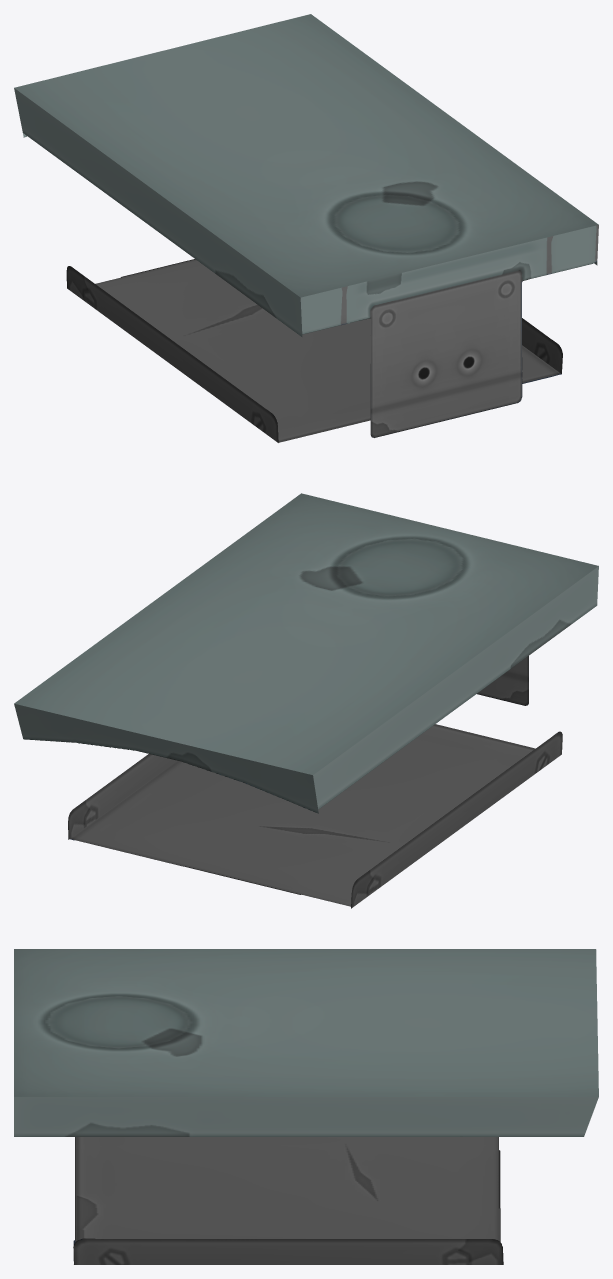
Rendered from obj_interactive_bathtub_lod1.fbx.
3 renders of one model, top to bottom at view 1: azimuth 30°, elevation 25°; view 2: azimuth 150°, elevation 25°; view 3: azimuth 270°, elevation 25°, orthographic.
Visible parts, largest first — view 1: bathtub_01_lod1; view 2: bathtub_01_lod1; view 3: bathtub_01_lod1.
Part boxes in pixels (bbox=[...]): bathtub_01_lod1: bbox=[14, 14, 598, 442]; bathtub_01_lod1: bbox=[14, 493, 598, 908]; bathtub_01_lod1: bbox=[14, 949, 598, 1264].
Bounding box in the file's own units: 4.19 × 2.27 × 7.01.
1 material, 1 textured.
